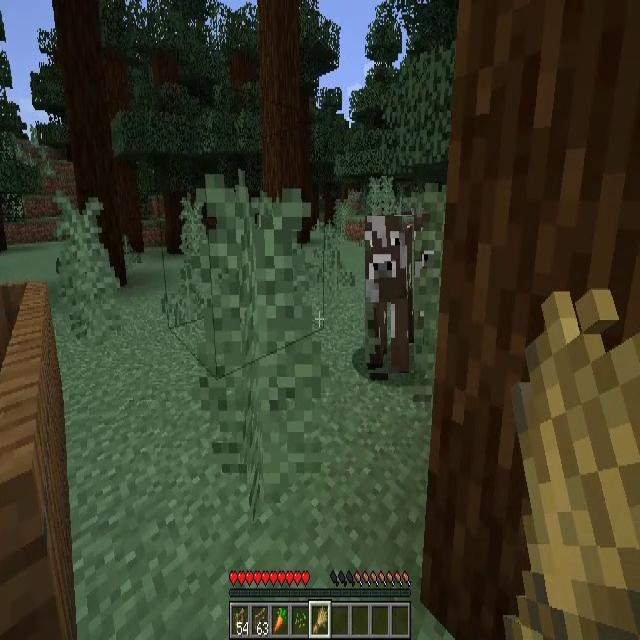cow: (365, 216, 414, 373)
